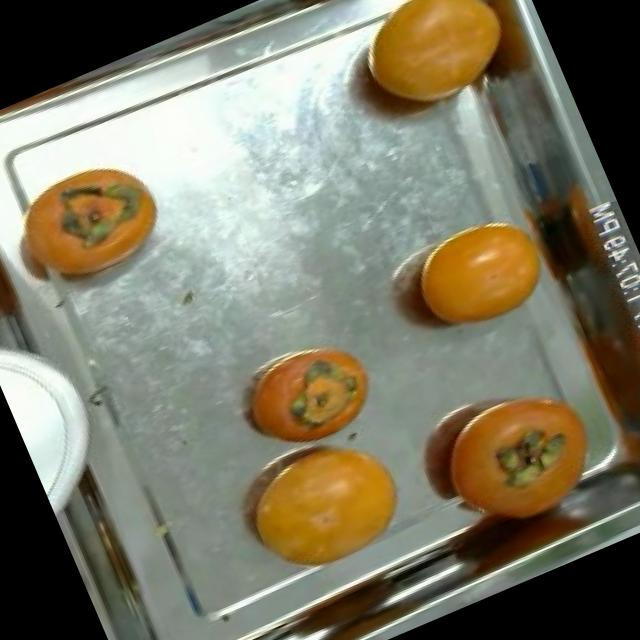Fruit: (392, 347, 632, 562), (218, 412, 430, 596), (0, 135, 191, 319), (390, 192, 570, 356), (215, 318, 397, 472), (336, 0, 536, 138)
